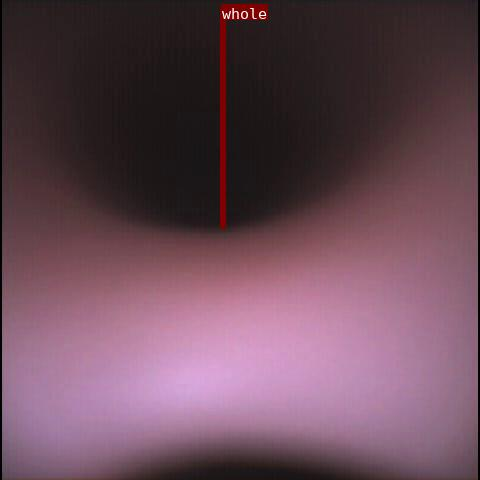whole: (221, 4, 224, 229)
